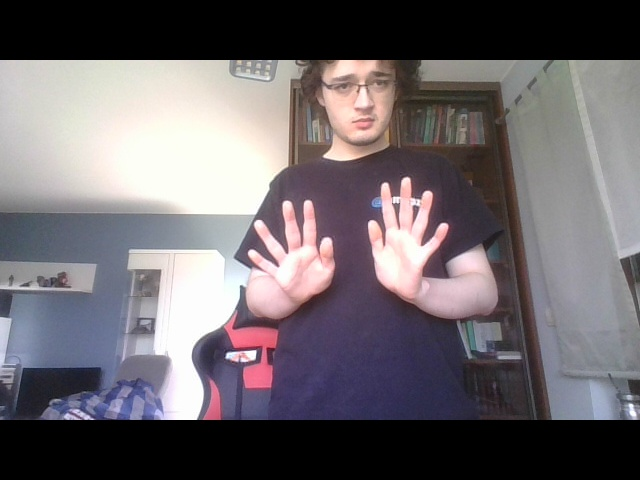hand: (246, 198, 348, 305), (365, 175, 450, 302)
